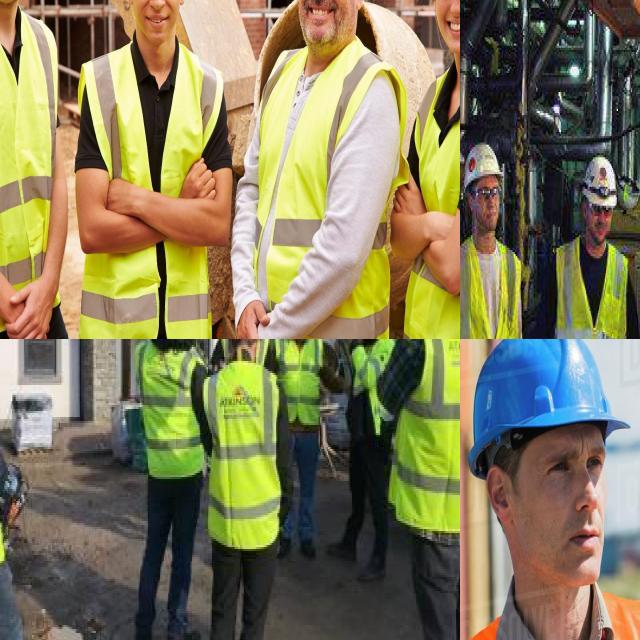No_Ear-Protection: (483, 456, 515, 532), (353, 0, 368, 13), (123, 0, 136, 9)
No_Glasses: (533, 437, 609, 495)
face_nomask: (509, 434, 624, 586), (288, 0, 359, 58), (125, 0, 191, 40), (580, 198, 612, 251), (477, 165, 505, 222), (433, 0, 460, 50)
glasses: (473, 182, 503, 202)
hand_noglove: (182, 143, 221, 232), (387, 163, 430, 238), (12, 275, 57, 339), (228, 300, 277, 339)
head_helmet: (460, 339, 628, 437), (578, 134, 620, 206), (462, 135, 507, 182)
person: (460, 339, 640, 640), (72, 0, 230, 339), (250, 0, 403, 339), (0, 0, 73, 339), (205, 339, 286, 640), (133, 339, 203, 640), (548, 102, 634, 339), (402, 0, 460, 339), (401, 339, 460, 640), (342, 339, 400, 581), (460, 117, 523, 339), (276, 339, 336, 559)
vest: (76, 38, 219, 339), (253, 37, 395, 339), (0, 0, 67, 330), (400, 50, 460, 339), (207, 357, 280, 547), (397, 339, 460, 533), (137, 339, 207, 477), (551, 226, 633, 339), (460, 233, 529, 339), (347, 339, 397, 425), (277, 339, 322, 425)
